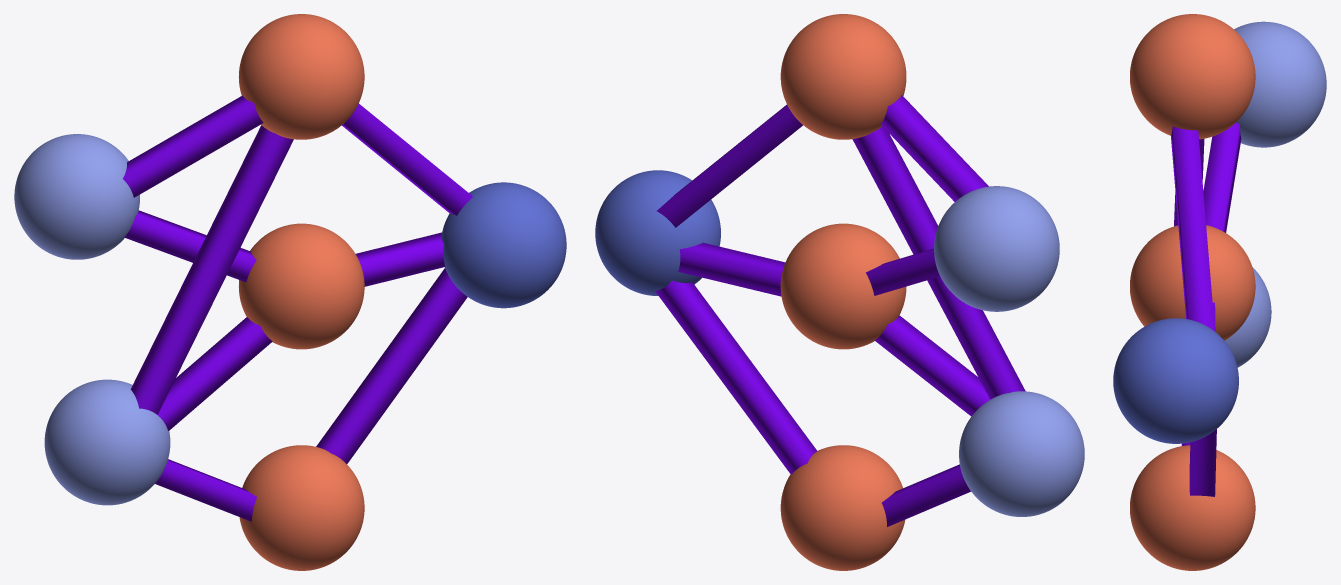
File: artificial-neural-network-3d-animated-icon-1569637184530.glb
The picture shows the model from 3 angles, left to right: view 1: azimuth 30°, elevation 25°; view 2: azimuth 150°, elevation 25°; view 3: azimuth 270°, elevation 25°; orthographic projection.
Parts seen in each view (by area): view 1: NurbsPath.008, Sphere.006, Sphere.005, Sphere.008, Sphere.004, Sphere.007, Sphere.009; view 2: NurbsPath.008, Sphere.009, Sphere.008, Sphere.006, Sphere.007, Sphere.004, Sphere.005; view 3: Sphere.005, Sphere.006, Sphere.007, NurbsPath.008, Sphere.008, Sphere.004, Sphere.009.
Boxes of the visible parts, x1,y1,x2,y2 form: NurbsPath.008: (123,95,472,521); Sphere.006: (238,14,364,139); Sphere.005: (441,182,566,308); Sphere.008: (14,134,139,259); Sphere.004: (238,223,364,349); Sphere.007: (239,445,364,570); Sphere.009: (44,379,170,505); NurbsPath.008: (655,95,1025,526); Sphere.009: (959,391,1084,516); Sphere.008: (934,186,1059,311); Sphere.006: (780,14,906,139); Sphere.007: (780,445,905,570); Sphere.004: (780,223,906,349); Sphere.005: (595,170,720,295); Sphere.005: (1113,318,1238,443); Sphere.006: (1130,14,1255,139); Sphere.007: (1130,445,1255,570); NurbsPath.008: (1170,122,1241,496); Sphere.008: (1234,21,1326,147); Sphere.004: (1130,225,1255,340); Sphere.009: (1224,267,1271,367).
Size of the model in its own units: 0.5811 by 0.616 by 0.2186.
